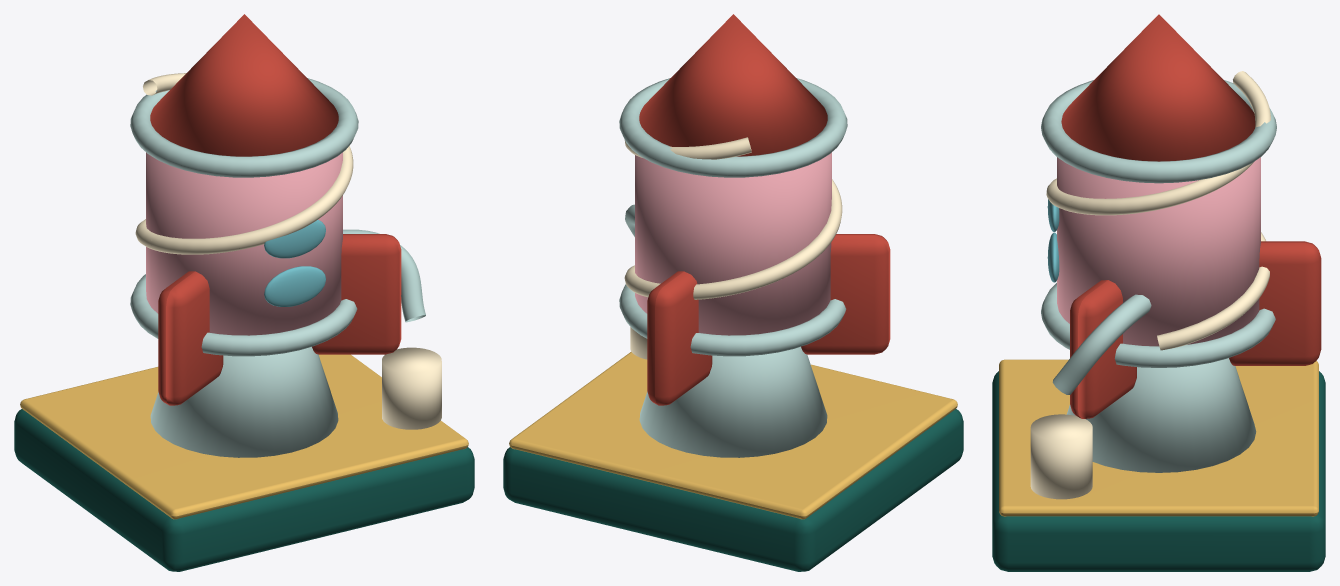
3 views of the same model, side by side, from view 1: azimuth 30°, elevation 25°; view 2: azimuth 150°, elevation 25°; view 3: azimuth 270°, elevation 25° (orthographic). The views are drawn at different scales.
Visible parts, largest first — view 1: Rocket cone, Brass welt, Chrome rocket foot, Jade footing, Drink chamber, Cream helix, Catch cup, Porthole; view 2: Brass welt, Rocket cone, Drink chamber, Chrome rocket foot, Jade footing, Cream helix; view 3: Rocket cone, Chrome rocket foot, Brass welt, Drink chamber, Jade footing, Cream helix, Catch cup, Porthole.
Boxes of the visible parts, bbox=[...] form: Rocket cone: bbox=[150, 14, 401, 405]; Brass welt: bbox=[20, 354, 468, 519]; Chrome rocket foot: bbox=[130, 78, 425, 457]; Jade footing: bbox=[14, 409, 474, 571]; Drink chamber: bbox=[146, 152, 342, 335]; Cream helix: bbox=[135, 73, 353, 254]; Catch cup: bbox=[382, 347, 441, 429]; Porthole: bbox=[264, 220, 325, 306]; Brass welt: bbox=[509, 352, 957, 519]; Rocket cone: bbox=[639, 14, 890, 405]; Drink chamber: bbox=[635, 152, 831, 335]; Chrome rocket foot: bbox=[619, 78, 847, 457]; Jade footing: bbox=[503, 409, 963, 571]; Cream helix: bbox=[624, 137, 842, 299]; Rocket cone: bbox=[1061, 14, 1321, 418]; Chrome rocket foot: bbox=[1041, 80, 1276, 472]; Brass welt: bbox=[999, 359, 1318, 516]; Drink chamber: bbox=[1057, 157, 1260, 346]; Jade footing: bbox=[992, 371, 1325, 571]; Cream helix: bbox=[1046, 71, 1270, 350]; Catch cup: bbox=[1030, 414, 1092, 499]; Porthole: bbox=[1047, 199, 1059, 282].
Bounding box in the file's own units: 0.8 × 1.15 × 0.72.
